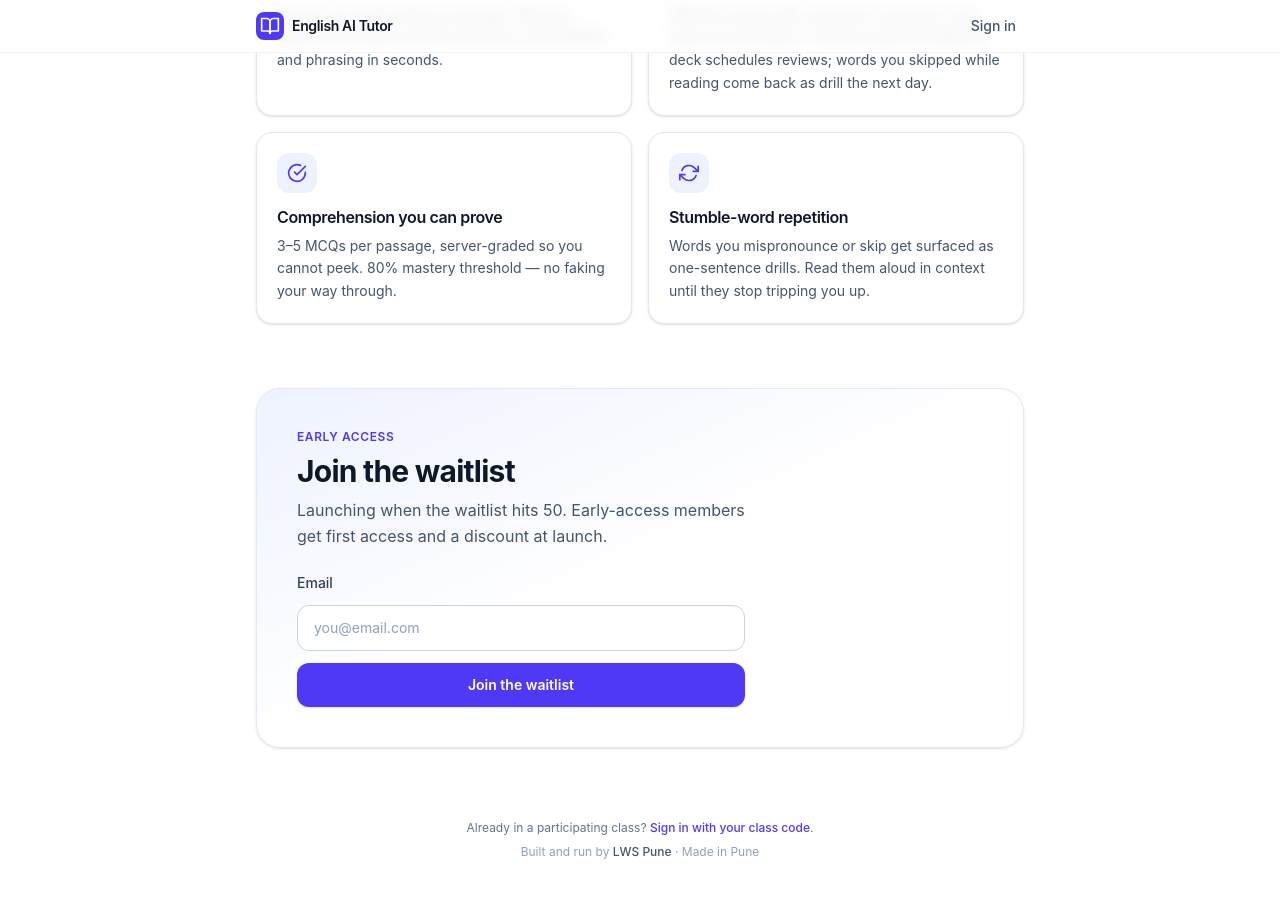
Test: LandingPage — waitlist form › shows a thank-you state on success
The image size is (1280, 900).
(page scrolled)
Type "a@b.com" into the field labelled "Email" at (521, 628), box [297,605,745,651]
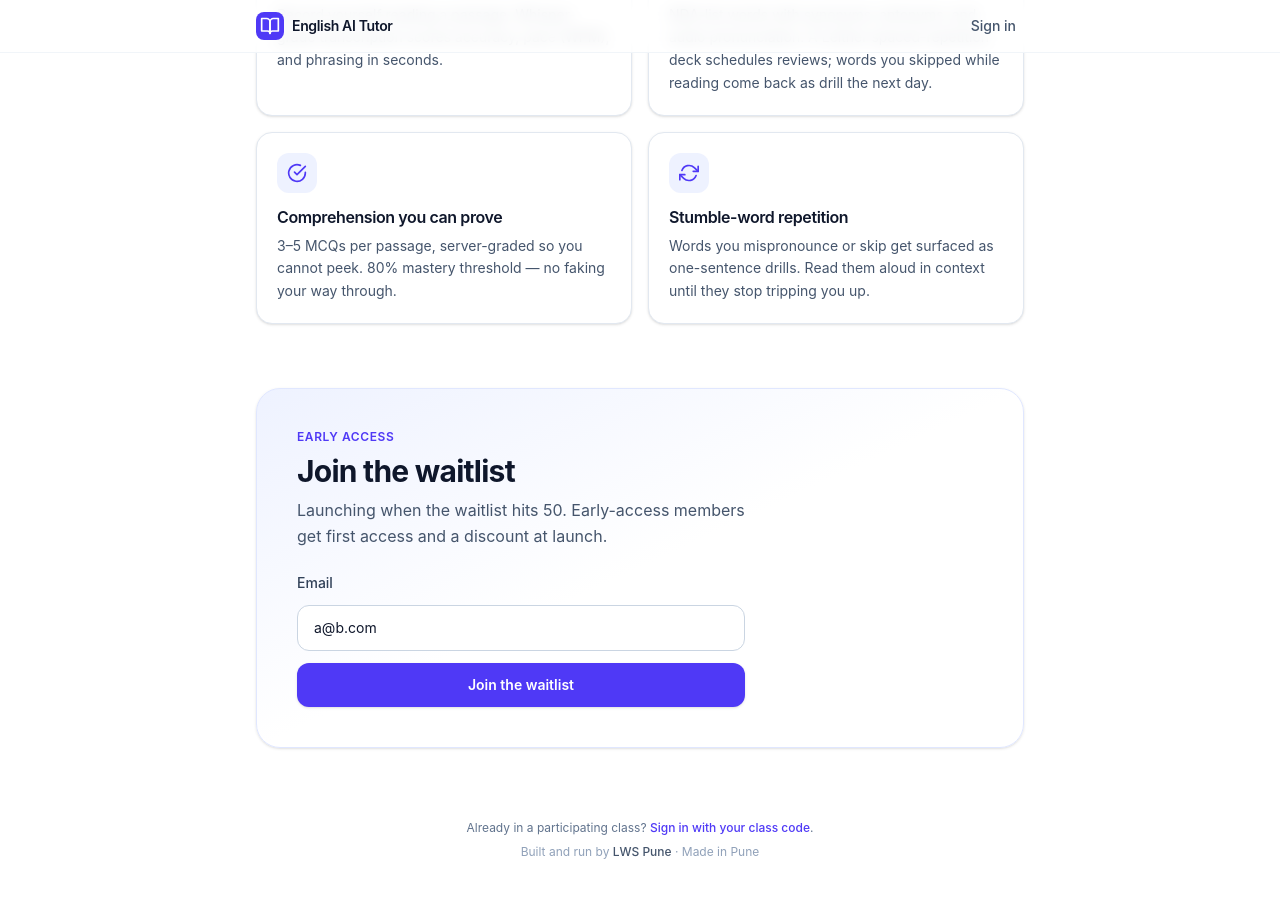
Click the button "Join the waitlist" at (521, 685), box [297,663,745,707]
(page scrolled)
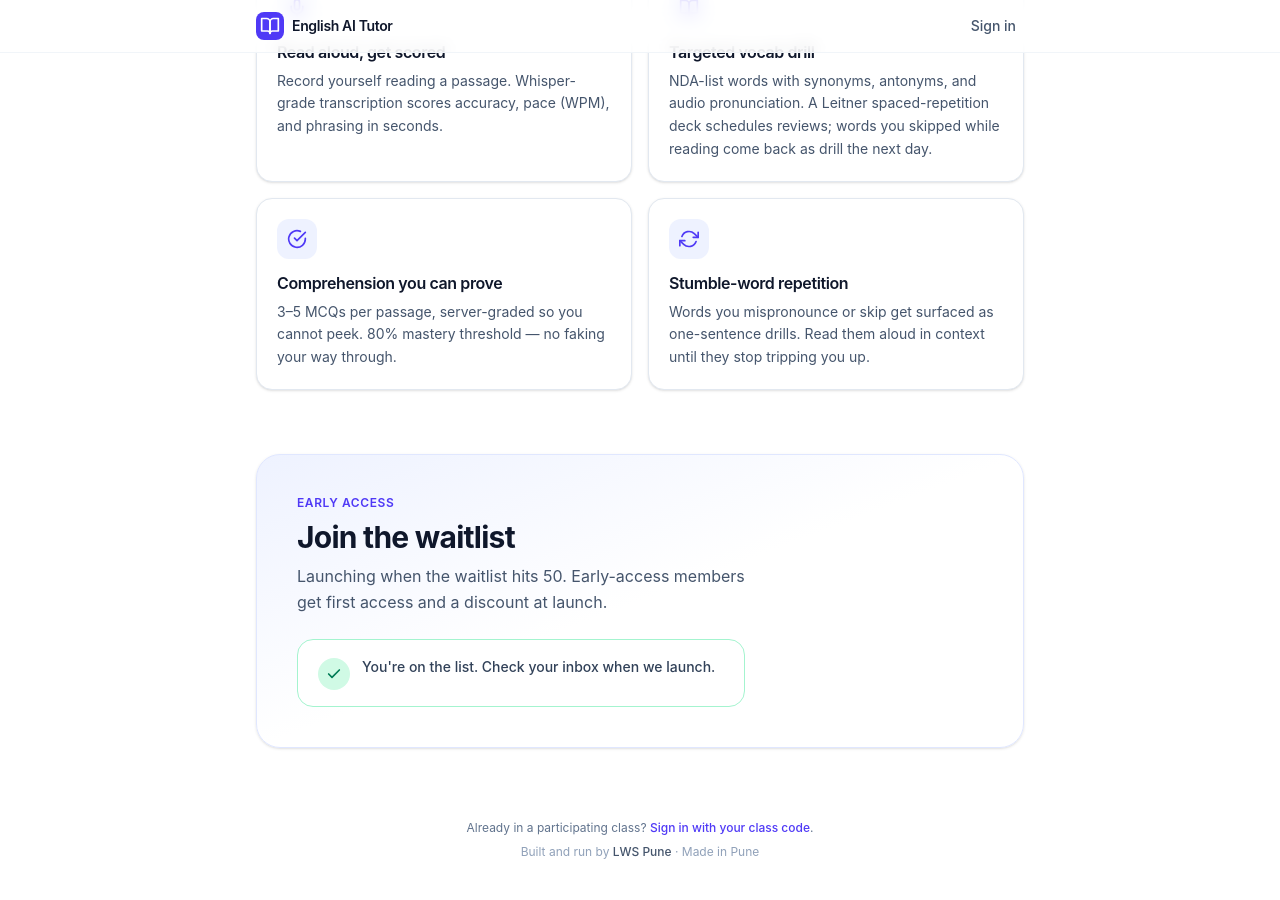
Now the text "You're on the list. Check your inbox when we launch." is shown, box [362,656,715,679]
